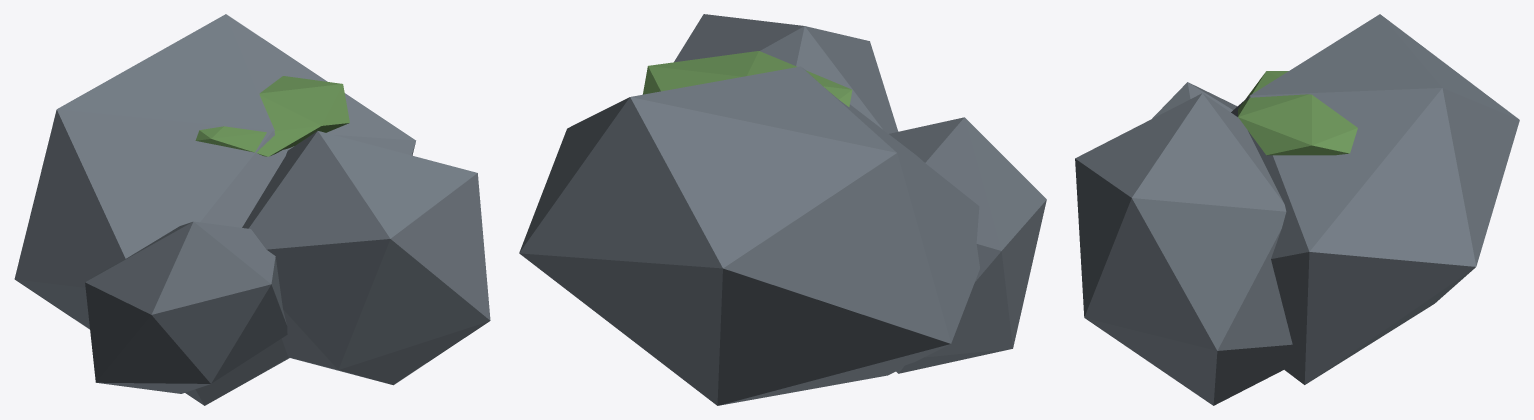
File: river_rock_a.glb
The picture shows the model from 3 angles, left to right: view 1: azimuth 30°, elevation 25°; view 2: azimuth 150°, elevation 25°; view 3: azimuth 270°, elevation 25°; orthographic projection. The views are drawn at different scales.
Parts seen in each view (by area): view 1: rock; view 2: rock; view 3: rock.
Boxes of the visible parts, <box> form: rock: <box>14,14,490,405</box>; rock: <box>519,14,1046,405</box>; rock: <box>1075,14,1519,405</box>.
Bounding box in the file's own units: 0.7227 × 0.5356 × 0.7356.
